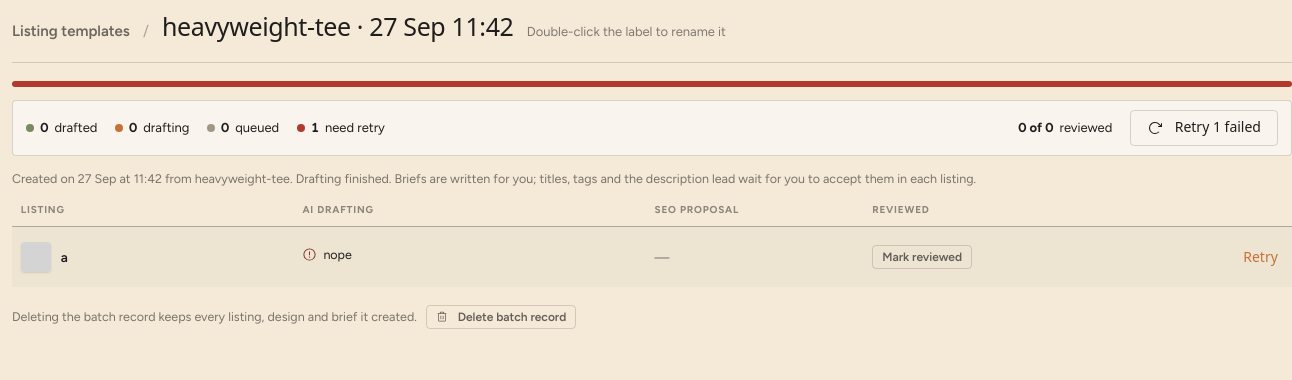
Test case: BatchSummaryPage › says a retry or a load that failed
What coordinates should you click on to do the following:
click the button "Retry"
I would click on:
 (1260, 257)
Its box is left=1238, top=239, right=1283, bottom=275.
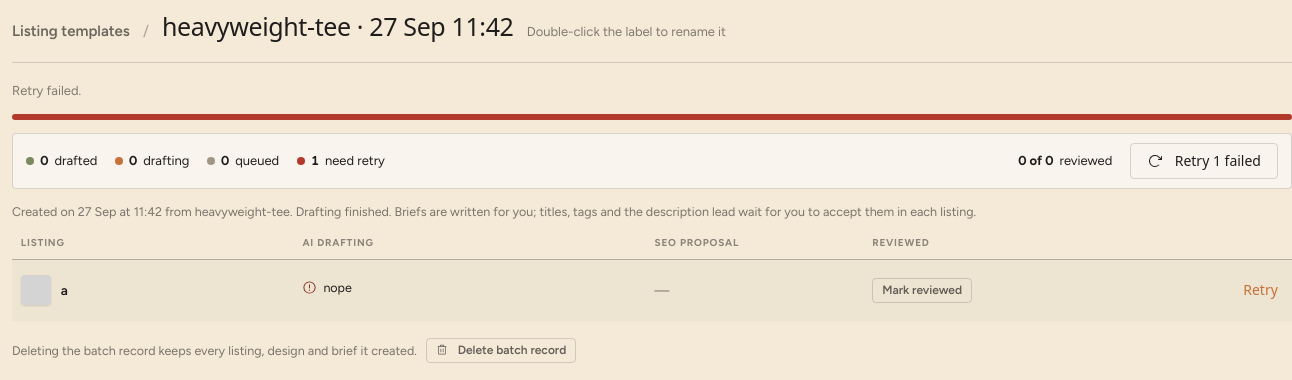
Expected: the message reads "Retry failed.", left=12, top=83, right=81, bottom=98
